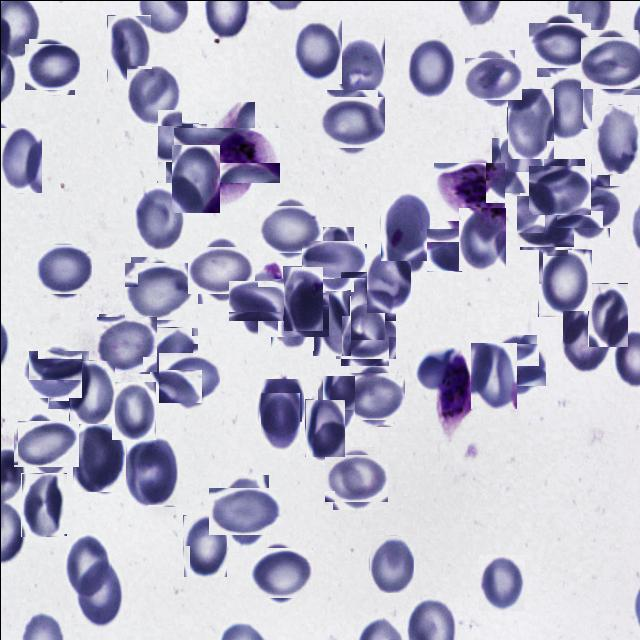difficult: (434, 348, 476, 436)
red blood cell: (126, 259, 190, 323), (124, 436, 177, 506), (72, 420, 124, 491), (537, 248, 591, 316), (214, 480, 274, 540), (76, 557, 126, 626), (380, 192, 429, 262), (583, 31, 640, 91), (125, 64, 181, 125), (250, 544, 308, 602), (322, 93, 380, 151), (97, 314, 155, 372), (264, 286, 322, 344), (590, 104, 638, 174), (506, 87, 553, 158), (192, 241, 250, 298), (133, 184, 184, 248), (171, 144, 219, 212), (404, 38, 456, 100), (542, 75, 592, 139), (291, 19, 341, 83), (160, 348, 217, 404), (262, 200, 318, 256), (328, 450, 384, 506), (17, 415, 73, 471), (531, 161, 587, 217), (336, 34, 384, 99), (334, 277, 384, 339), (148, 326, 197, 389), (63, 534, 111, 598), (562, 310, 609, 375), (470, 342, 516, 408), (156, 122, 206, 182), (338, 307, 392, 362), (518, 193, 572, 248), (490, 136, 543, 192), (458, 207, 505, 270), (106, 14, 150, 81), (20, 472, 66, 536), (68, 359, 114, 423), (346, 368, 400, 422), (532, 18, 586, 72), (35, 241, 89, 295), (25, 347, 79, 400), (366, 248, 410, 312), (561, 179, 614, 232), (182, 514, 226, 576), (308, 232, 360, 284), (233, 274, 285, 326), (257, 377, 303, 435), (0, 127, 41, 192), (368, 534, 413, 592), (282, 265, 322, 330), (478, 554, 524, 610), (587, 282, 627, 346), (111, 381, 155, 439), (490, 338, 540, 389), (26, 40, 76, 91), (312, 289, 350, 355), (468, 52, 518, 102), (311, 374, 354, 432), (47, 350, 88, 408), (260, 392, 299, 452), (304, 398, 344, 456), (426, 226, 472, 272)
schizont: (186, 114, 266, 194), (436, 158, 501, 223)
